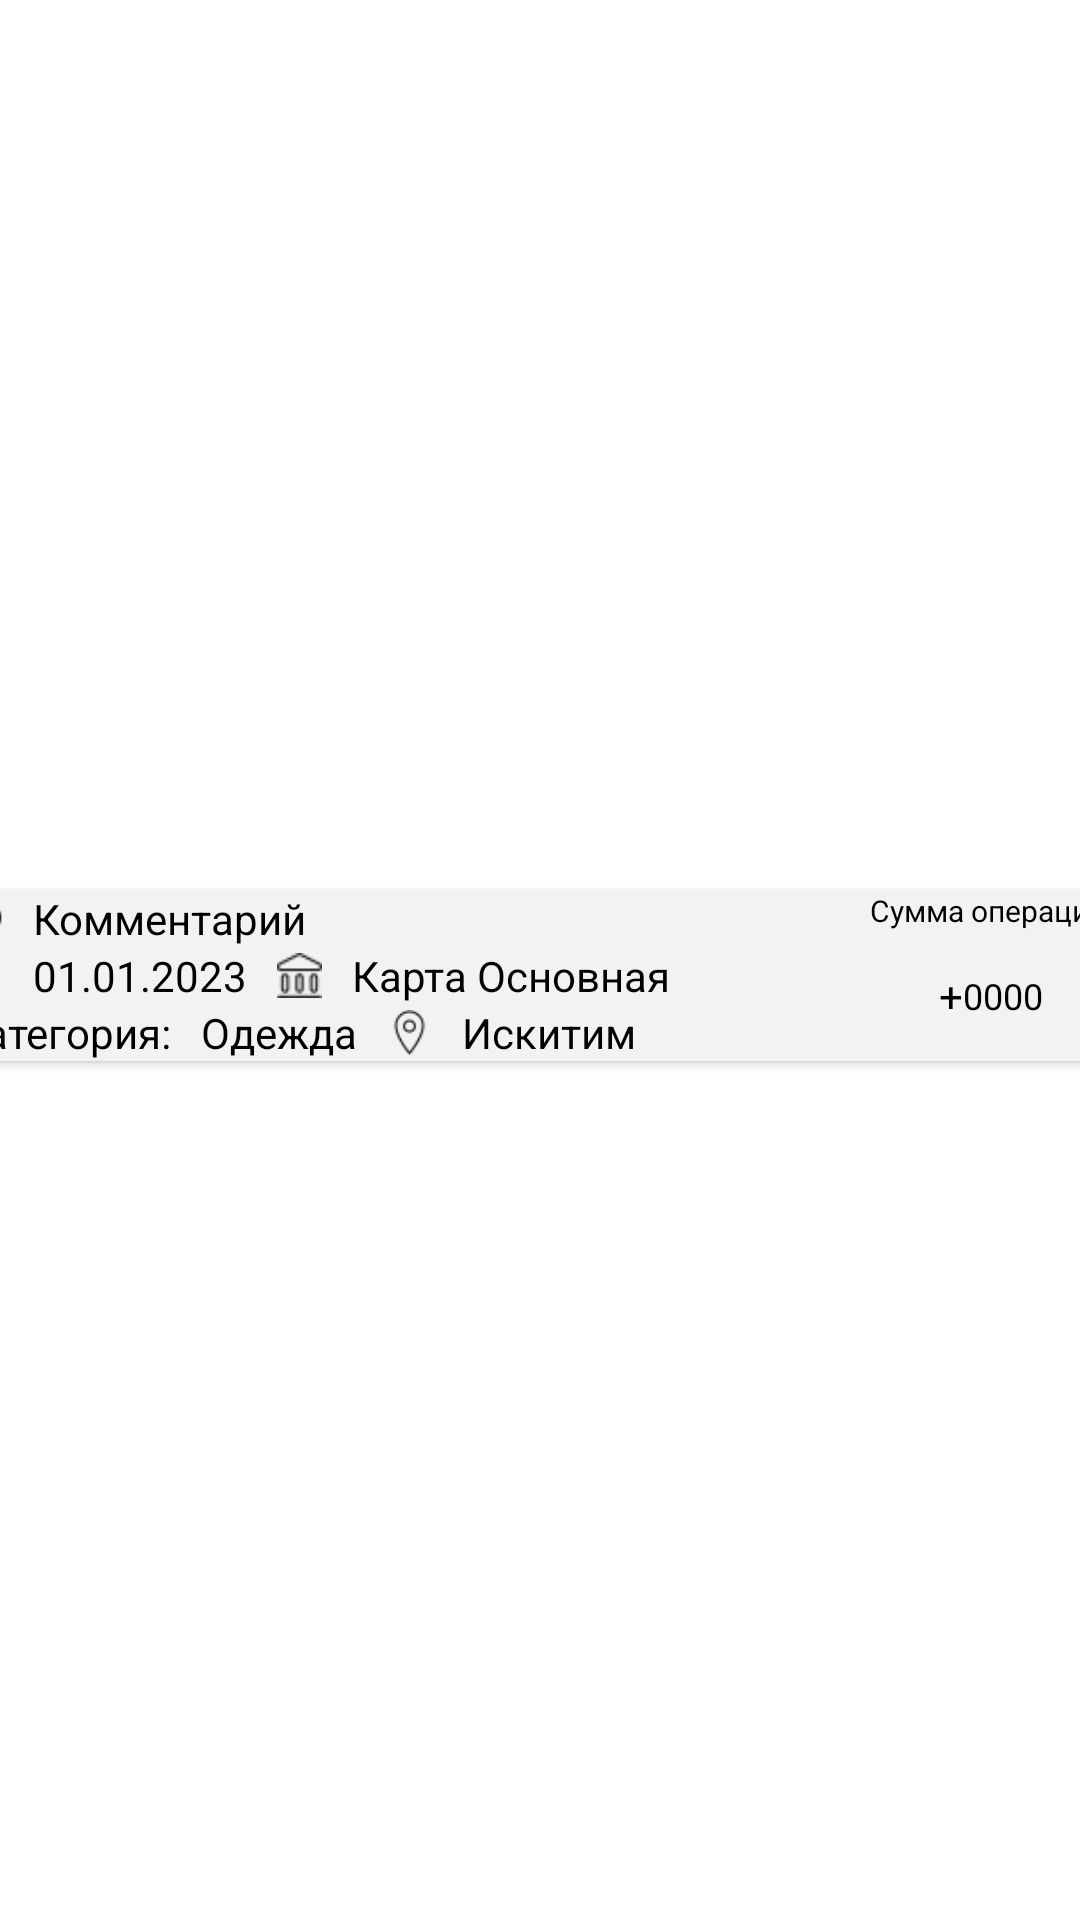

Point at icon controls on the screen. Image size 1080px x 1920px, points as point (x, y).
bankbuildingicon: point (299, 975)
location: point (409, 1032)
